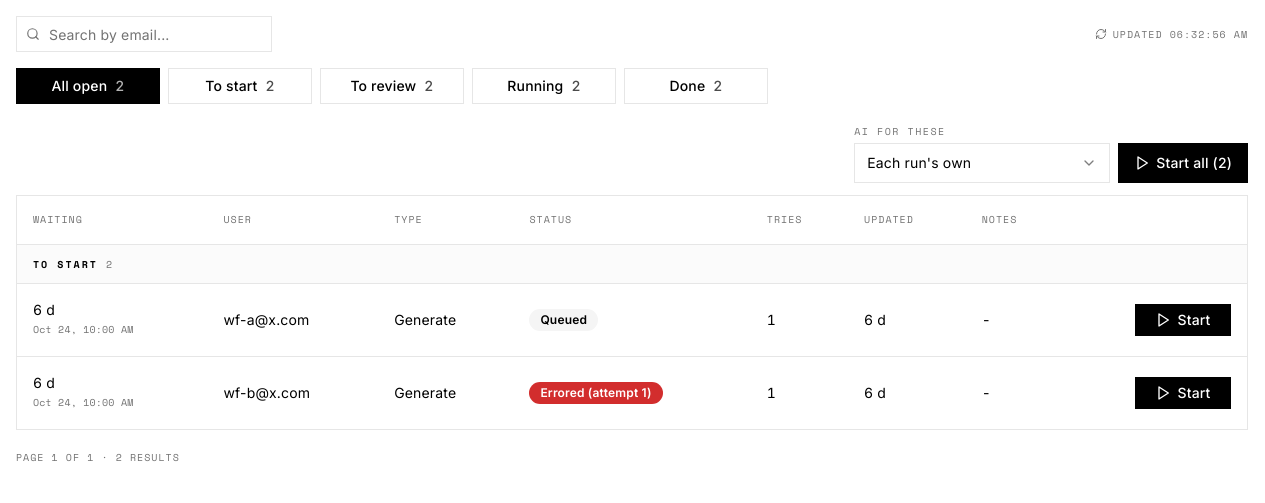
AdminCadQueuePage › Start all starts every listed run and shows each refusal in its row
Click the button "Start all (2)" at point(1183, 163), box [1118,143,1248,183]
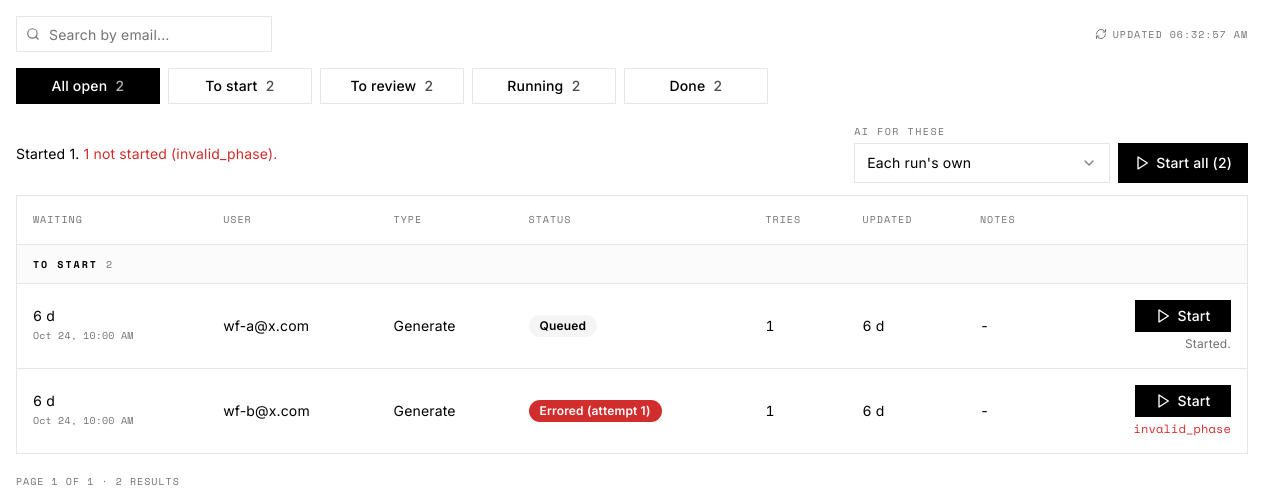
Expected: the text "Started 1." is shown, [16,144,79,162]
Expected: the text "1 not started (invalid_phase)." is shown, [79,144,277,162]
Expected: the text "Started." is shown, [1185,336,1231,352]
